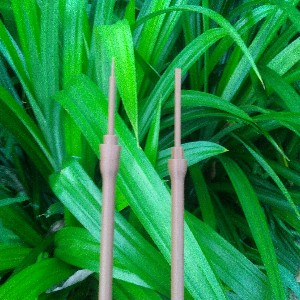obeng: (167, 65, 189, 300)
solder: (96, 55, 123, 300)
